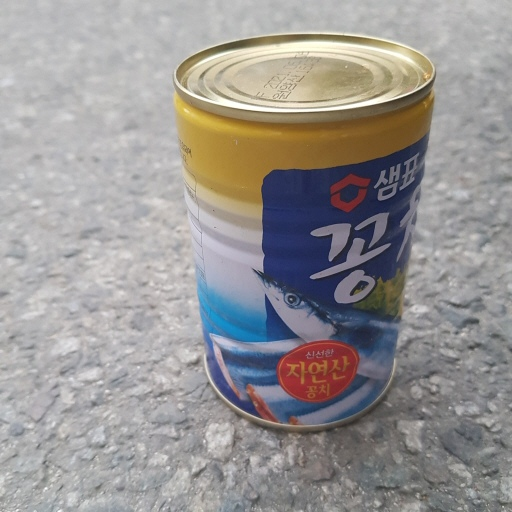Metal_1: (168, 31, 439, 432)
